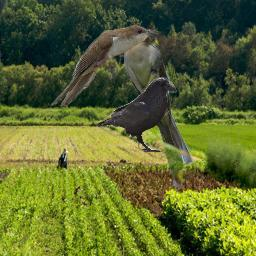Crow: (96, 77, 177, 152)
Cuckoo: (110, 27, 196, 189), (51, 25, 159, 106)
